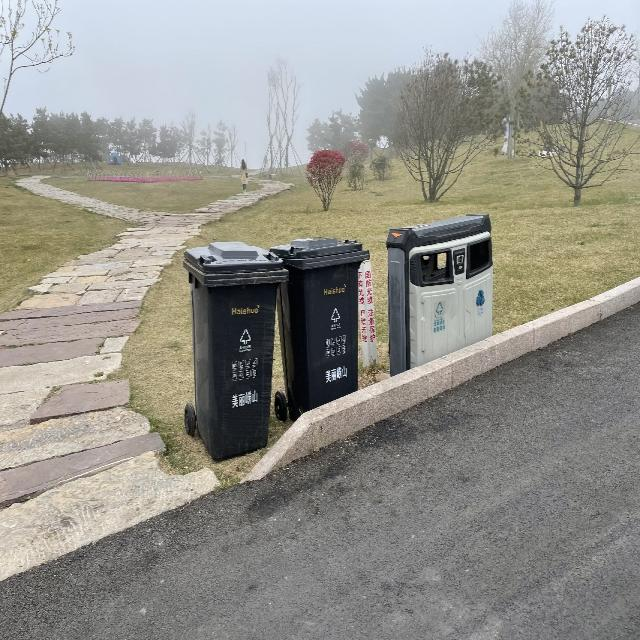garbage_bin: (182, 240, 288, 461), (383, 212, 492, 375), (272, 240, 369, 422)
